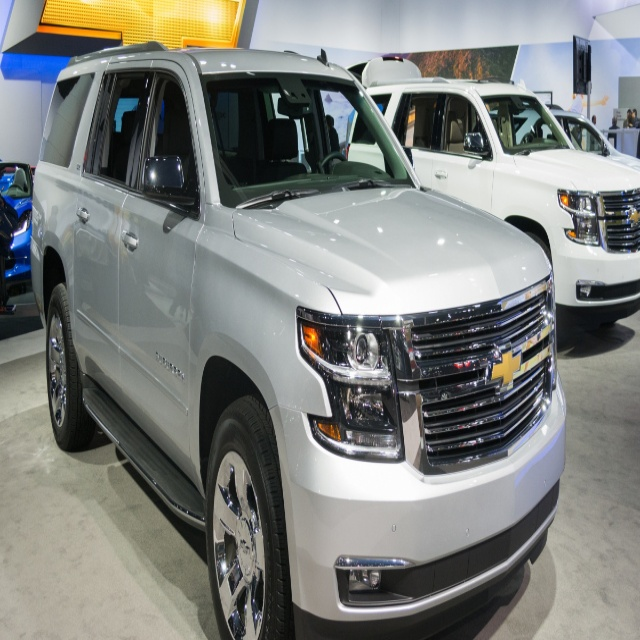Car: (30, 48, 566, 640), (346, 76, 640, 323)
